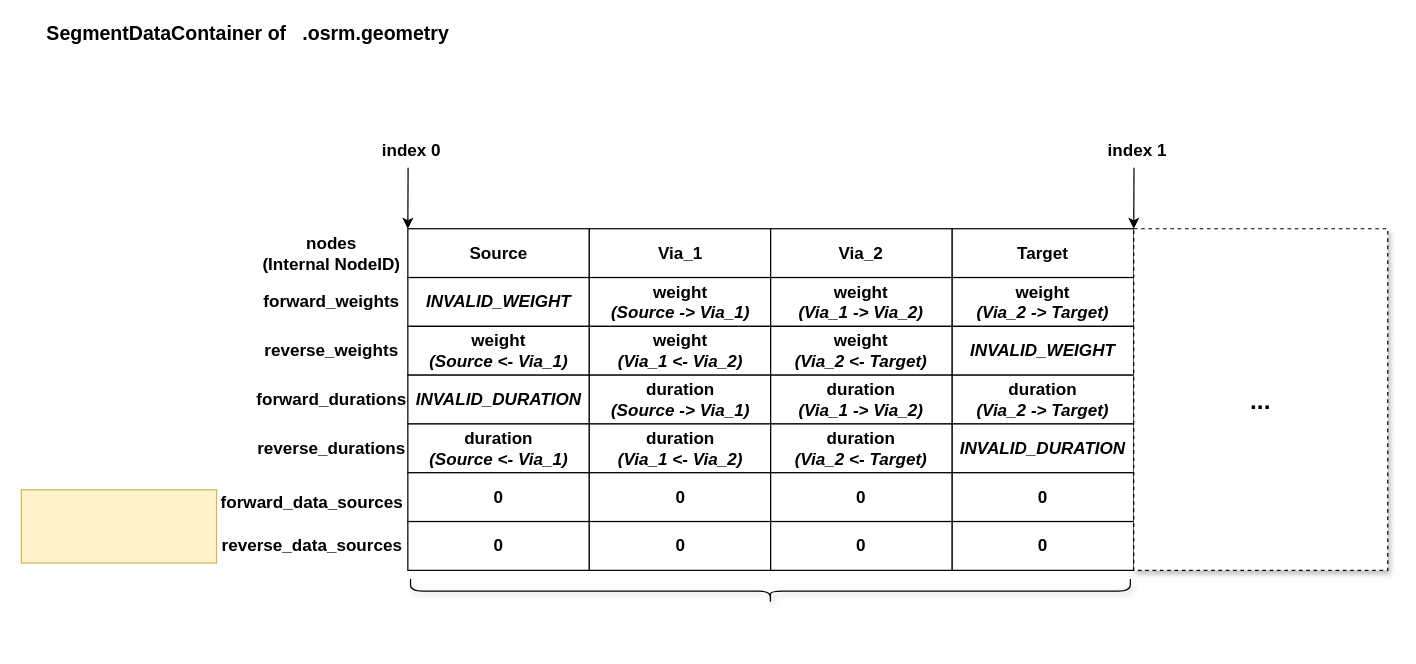
Some shapes in this 1416 by 664 pixel diagram are drawn without their labels. The shapes that lost their labels are listed below. From the top down, each one's centre as x and y in pixels, then its label:
At point 118,526: "0 means LUA_SOURCE".
At point 771,592: "compressed node based edge".
